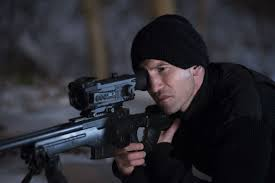rifle: (1, 78, 163, 158)
